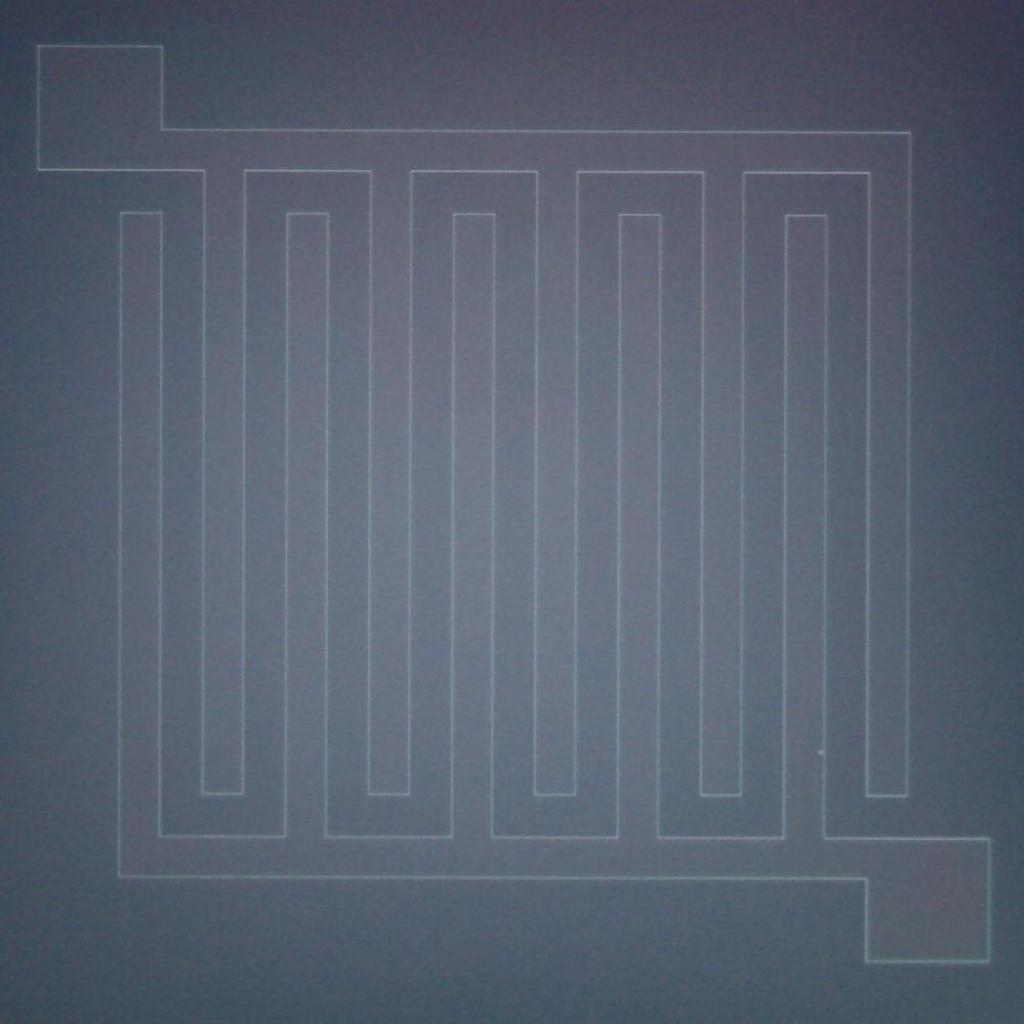dot: (812, 740, 831, 771)
